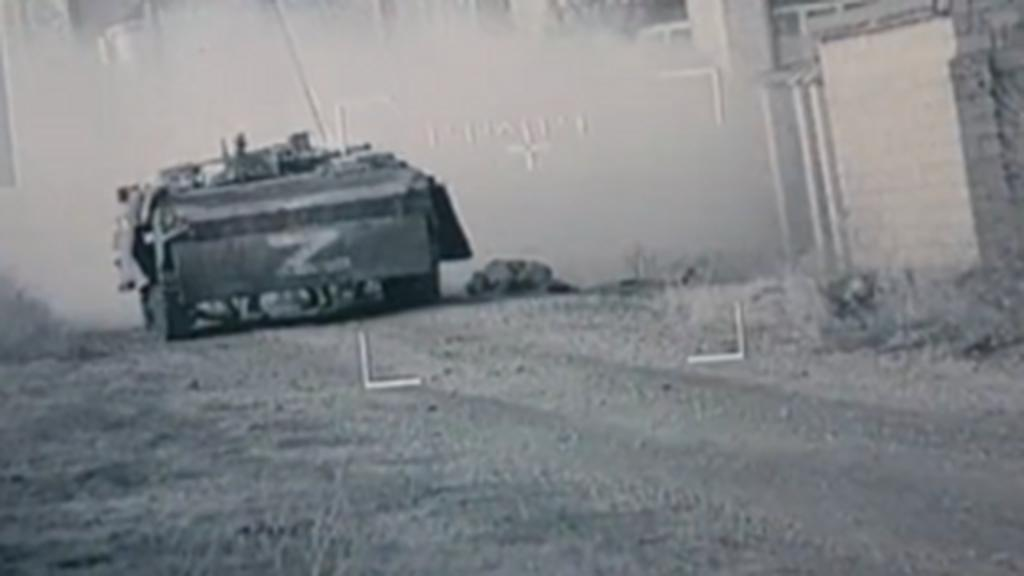APC-IFV: (104, 130, 454, 330)
